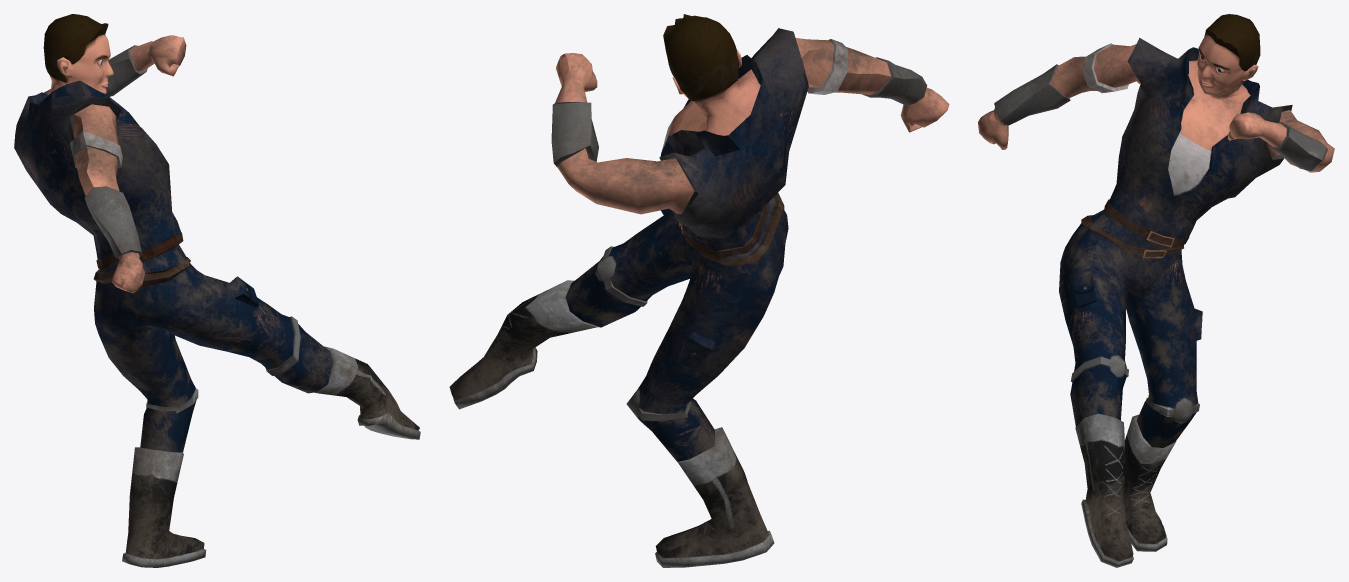
File: Anim_ataque_f1_jugador.0023.obj
3 views of the same model, side by side, from view 1: azimuth 30°, elevation 25°; view 2: azimuth 150°, elevation 25°; view 3: azimuth 270°, elevation 25° (orthographic). The views are drawn at different scales.
Visible parts, largest first — view 1: polySurface1; view 2: polySurface1; view 3: polySurface1.
Boxes of the visible parts, <box> form: polySurface1: <box>14,14,420,567</box>; polySurface1: <box>449,14,949,567</box>; polySurface1: <box>978,14,1334,567</box>.
Size of the model in its own units: 6.6 by 8.96 by 5.81.
